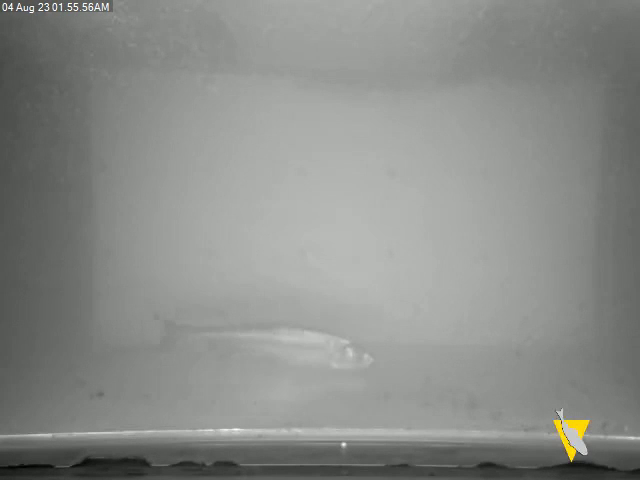\uAC15\uC900\uCE58: (155, 309, 377, 373)
